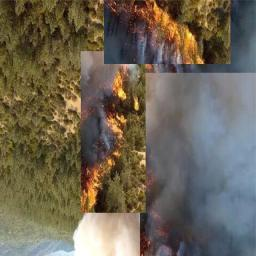Heavy smoke: (149, 77, 256, 254)
Small fire: (78, 56, 131, 236), (99, 0, 208, 62)
